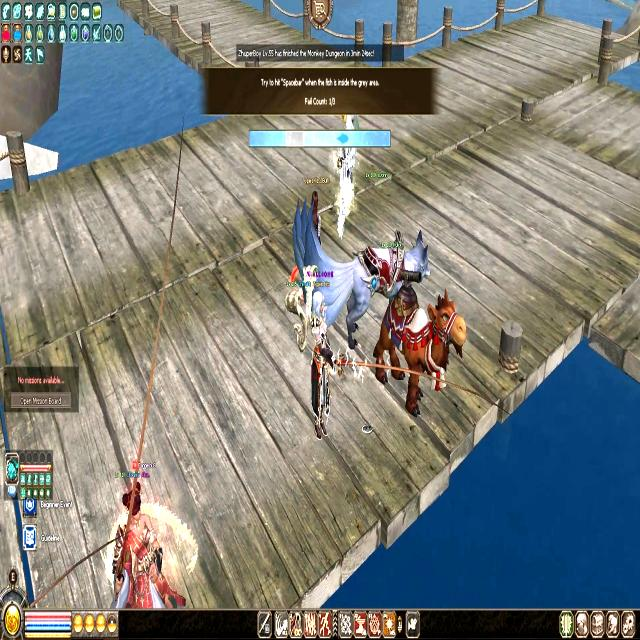fishes: (337, 131, 350, 145)
